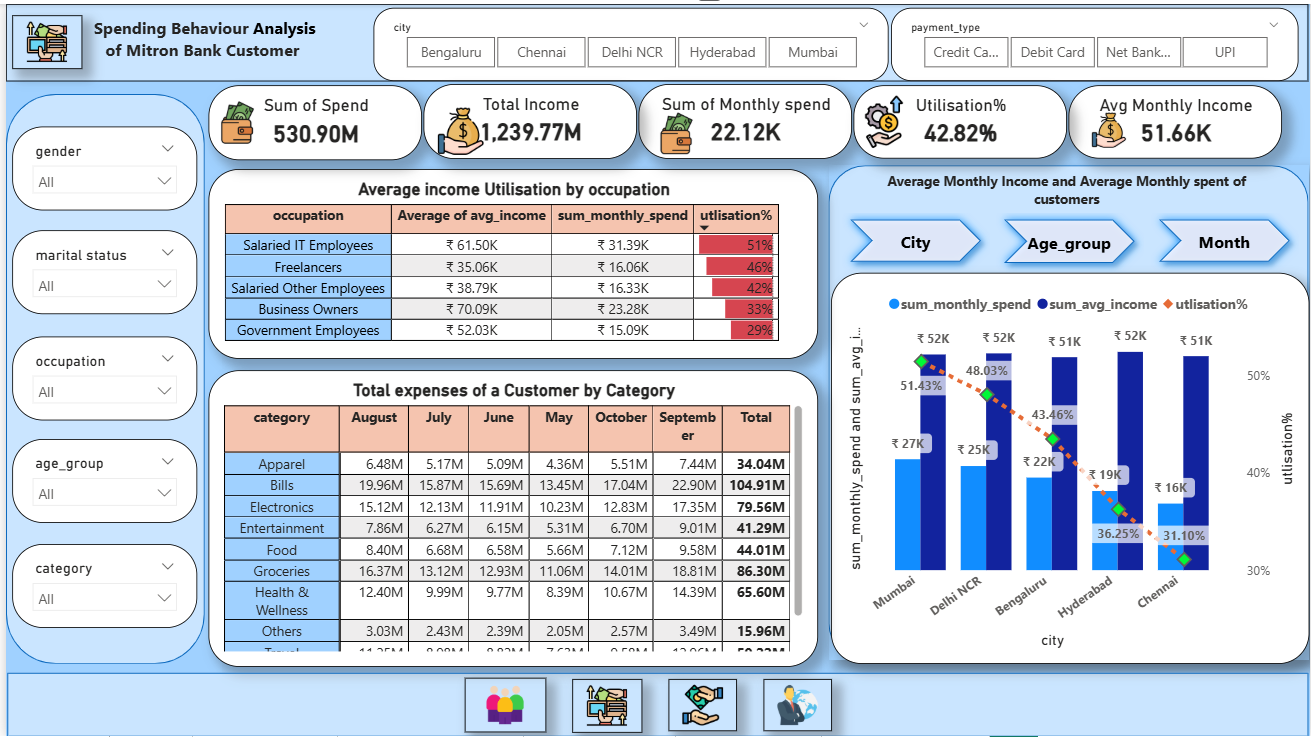

This screenshot's page, from the dashboard's own definition file:
{"tool":"powerbi","page":{"name":"spending behaviour","canvas":[1280,720],"ordinal":2},"visuals":[{"type":"shape","box":[0,0,1278,76],"z":0},{"type":"shape","box":[0,88.3,195.1,559.5],"z":0,"group":"g5"},{"type":"shape","box":[807.4,158.3,471.2,485.9],"z":0,"group":"g1"},{"type":"shape","box":[1.2,656.2,1277.3,63.8],"z":0,"group":"g11"},{"type":"group","id":"g1","title":"Group 8","box":[807.4,158.3,472.5,489.6],"z":500,"group":"g2"},{"type":"image","box":[6.1,11.1,68.7,52.8],"z":1000,"group":"g10"},{"type":"slicer","fields":{"Values":["dim_customers.gender"]},"box":[6.1,120.2,181.6,82.2],"z":1000,"group":"g5"},{"type":"group","id":"g2","title":"Group 10","box":[807.4,158.3,472.5,489.6],"z":1000},{"type":"lineClusteredColumnComboChart","fields":{"Y":["dim_customers.sum_monthly_spend","dim_customers.sum_avg_income"],"Y2":["fact_spends.utlisation%"],"Category":["dim_customers.city"]},"box":[810,263.9,469.9,384.1],"z":1000,"group":"g1"},{"type":"image","box":[450.3,661.6,79.8,54],"z":1000,"group":"g11"},{"type":"tableEx","title":"Average income Utilisation by occupation ","fields":{"Values":["dim_customers.occupation","dim_customers.avg_income","dim_customers.sum_monthly_spend","fact_spends.utlisation%"]},"box":[199,162,598.4,186.7],"z":2000},{"type":"slicer","fields":{"Values":["dim_customers.marital status"]},"box":[6.1,222,181.6,82.2],"z":2000,"group":"g5"},{"type":"image","box":[650.3,662.8,67.5,51.5],"z":2000,"group":"g11"},{"type":"textbox","box":[74.8,7.4,240.5,61.4],"z":3000,"group":"g10"},{"type":"slicer","fields":{"Values":["dim_customers.occupation"]},"box":[6.1,326.3,181.6,82.2],"z":3000,"group":"g5"},{"type":"pivotTable","title":"Total expenses of a Customer by Category","fields":{"Rows":["fact_spends.category"],"Columns":["fact_spends.month"],"Values":["Sum(fact_spends.spend)"]},"box":[199,359.6,598.4,291],"z":3000},{"type":"image","box":[743.5,662.8,67.5,51.5],"z":3000,"group":"g11"},{"type":"slicer","fields":{"Values":["fact_spends.payment_type"]},"box":[868.7,3.7,400,72.4],"z":4000},{"type":"card","title":"Total Income","fields":{"Values":["dim_customers.total_amount_spend"]},"box":[410.1,78.5,209.8,73.6],"z":4000,"group":"g6"},{"type":"slicer","fields":{"Values":["fact_spends.category"]},"box":[6.1,530,181.6,82.2],"z":4000,"group":"g5"},{"type":"image","box":[555.8,662.2,68.7,52.8],"z":4000,"group":"g11"},{"type":"slicer","fields":{"Values":["dim_customers.city"]},"box":[360.7,3.7,505.5,72.4],"z":5000},{"type":"group","id":"g3","title":"Group 1","box":[189,79.8,219.6,73.6],"z":5000,"group":"g9"},{"type":"card","title":"Sum of Spend","fields":{"Values":["Sum(fact_spends.spend)"]},"box":[198.8,79.8,209.8,73.6],"z":5000,"group":"g3"},{"type":"slicer","fields":{"Values":["dim_customers.age_group"]},"box":[6.1,427,181.6,82.2],"z":5000,"group":"g5"},{"type":"group","id":"g4","title":"Group 2","box":[620.9,78.3,209.8,73.6],"z":6000,"group":"g9"},{"type":"card","title":"Sum of Monthly spend","fields":{"Values":["dim_customers.sum_monthly_spend"]},"box":[620.9,78.3,209.8,73.6],"z":6000,"group":"g4"},{"type":"group","id":"g5","title":"Group 6","box":[0,88.3,195.1,559.5],"z":6000},{"type":"group","id":"g6","title":"Group 3","box":[410.1,78.5,209.8,74.8],"z":7000,"group":"g9"},{"type":"card","title":"Avg Monthly Income","fields":{"Values":["dim_customers.avg_monthly_income"]},"box":[1043,80,209.8,72.4],"z":7000,"group":"g7"},{"type":"shape","title":"agegroup","box":[1122.1,202.3,146.5,59.6],"z":7000},{"type":"group","id":"g7","title":"Group 4","box":[1040.5,80,212.3,72.4],"z":8000,"group":"g9"},{"type":"shape","title":"city","box":[819.2,202.3,146.5,59.6],"z":8000},{"type":"group","id":"g8","title":"Group 5","box":[830.7,72.4,211,87.1],"z":9000,"group":"g9"},{"type":"card","title":"Utilisation%","fields":{"Values":["fact_spends.utlisation%"]},"box":[831.9,79.8,209.8,72.4],"z":9000,"group":"g8"},{"type":"shape","title":"Month","box":[970.7,202.3,146.5,60.8],"z":9000},{"type":"group","id":"g9","title":"Group 9","box":[189,72.4,1063.7,87.1],"z":10000},{"type":"textbox","box":[844.2,159.5,393.9,60.1],"z":12000},{"type":"group","id":"g10","title":"Group 7","box":[6.1,7.4,309.2,61.4],"z":13000},{"type":"group","id":"g11","title":"Group 9","box":[1.2,656.2,1277.3,63.8],"z":14000},{"type":"image","box":[189,90.8,76.1,51.5],"z":14001,"group":"g3"},{"type":"image","box":[630.7,101.2,55.2,50.7],"z":14003,"group":"g4"},{"type":"image","box":[414.3,96.8,65,56.4],"z":14005,"group":"g6"},{"type":"image","box":[1040.5,101.6,84.7,44.2],"z":14007,"group":"g7"},{"type":"image","box":[830.7,72.4,62.6,87.1],"z":14009,"group":"g8"}]}

Visuals, with their boxes in screenshot pixels (x1, y1, x2, y2), scaled from the page's 1280x720 canvas onto the 1311x737 screenshot:
shape: x1=0 y1=0 x2=1309 y2=78
shape: x1=0 y1=90 x2=200 y2=663
shape: x1=827 y1=162 x2=1310 y2=659
shape: x1=1 y1=672 x2=1309 y2=736
"Group 8" group: x1=827 y1=162 x2=1310 y2=663
image: x1=6 y1=11 x2=77 y2=65
slicer - dim_customers.gender: x1=6 y1=123 x2=192 y2=207
"Group 10" group: x1=827 y1=162 x2=1310 y2=663
lineClusteredColumnComboChart - dim_customers.sum_monthly_spend x dim_customers.sum_avg_income: x1=830 y1=270 x2=1310 y2=663
image: x1=461 y1=677 x2=543 y2=732
"Average income Utilisation by occupation " tableEx: x1=204 y1=166 x2=817 y2=357
slicer - dim_customers.marital status: x1=6 y1=227 x2=192 y2=311
image: x1=666 y1=678 x2=735 y2=731
textbox: x1=77 y1=8 x2=323 y2=70
slicer - dim_customers.occupation: x1=6 y1=334 x2=192 y2=418
"Total expenses of a Customer by Category" pivotTable: x1=204 y1=368 x2=817 y2=666
image: x1=762 y1=678 x2=831 y2=731
slicer - fact_spends.payment_type: x1=890 y1=4 x2=1299 y2=78
"Total Income" card: x1=420 y1=80 x2=635 y2=156
slicer - fact_spends.category: x1=6 y1=543 x2=192 y2=627
image: x1=569 y1=678 x2=640 y2=732
slicer - dim_customers.city: x1=369 y1=4 x2=887 y2=78
"Group 1" group: x1=194 y1=82 x2=418 y2=157
"Sum of Spend" card: x1=204 y1=82 x2=418 y2=157
slicer - dim_customers.age_group: x1=6 y1=437 x2=192 y2=521
"Group 2" group: x1=636 y1=80 x2=851 y2=155
"Sum of Monthly spend" card: x1=636 y1=80 x2=851 y2=155
"Group 6" group: x1=0 y1=90 x2=200 y2=663
"Group 3" group: x1=420 y1=80 x2=635 y2=157
"Avg Monthly Income" card: x1=1068 y1=82 x2=1283 y2=156
"agegroup" shape: x1=1149 y1=207 x2=1299 y2=268
"Group 4" group: x1=1066 y1=82 x2=1283 y2=156
"city" shape: x1=839 y1=207 x2=989 y2=268
"Group 5" group: x1=851 y1=74 x2=1067 y2=163
"Utilisation%" card: x1=852 y1=82 x2=1067 y2=156
"Month" shape: x1=994 y1=207 x2=1144 y2=269
"Group 9" group: x1=194 y1=74 x2=1283 y2=163
textbox: x1=865 y1=163 x2=1268 y2=225
"Group 7" group: x1=6 y1=8 x2=323 y2=70
"Group 9" group: x1=1 y1=672 x2=1309 y2=736
image: x1=194 y1=93 x2=272 y2=146
image: x1=646 y1=104 x2=703 y2=155
image: x1=424 y1=99 x2=491 y2=157
image: x1=1066 y1=104 x2=1152 y2=149
image: x1=851 y1=74 x2=915 y2=163
